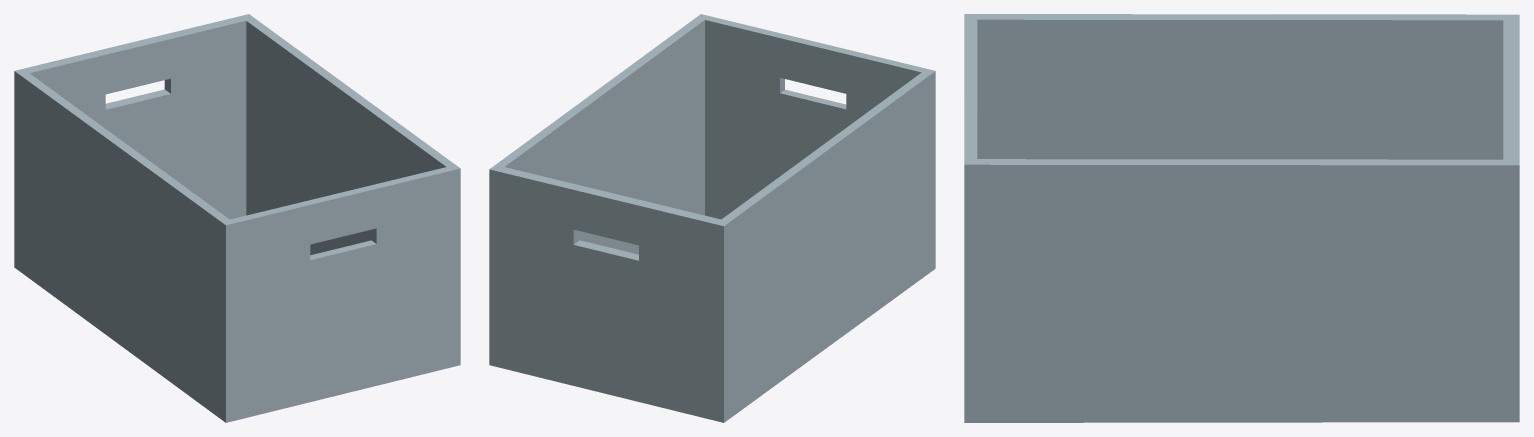
The model's file is warehouse_036.glb.
The picture shows the model from 3 angles, left to right: view 1: azimuth 30°, elevation 25°; view 2: azimuth 150°, elevation 25°; view 3: azimuth 270°, elevation 25°; orthographic projection. The views are drawn at different scales.
Visible parts, largest first — view 1: warehouse_036; view 2: warehouse_036; view 3: warehouse_036.
Part boxes in pixels (x1,y1,x2,y2): warehouse_036: [14, 14, 460, 422]; warehouse_036: [489, 14, 935, 422]; warehouse_036: [964, 14, 1519, 422].
Size of the model in its own units: 0.418 by 0.3363 by 0.6528.
Materials: 1 (1 with a texture image).
